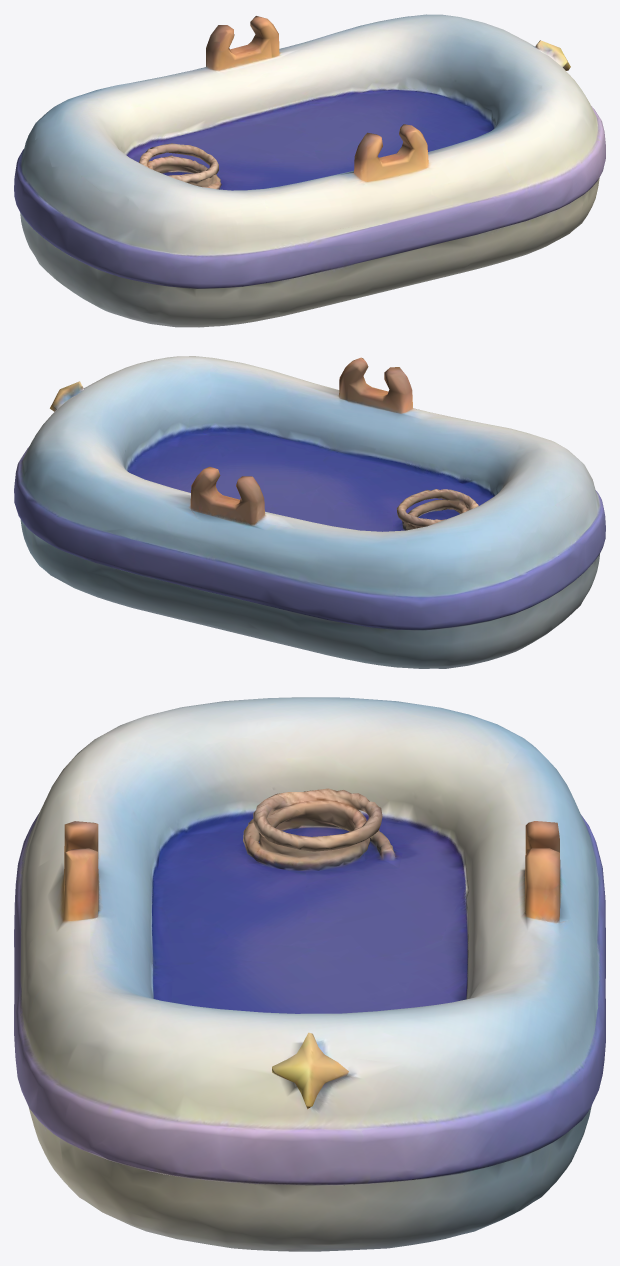
The model's file is raft.glb.
3 renders of one model, top to bottom at view 1: azimuth 30°, elevation 25°; view 2: azimuth 150°, elevation 25°; view 3: azimuth 270°, elevation 25°, orthographic. The views are drawn at different scales.
Visible parts, largest first — view 1: tripo_node_0b523997-4f02-4bc8-a337-ece1bb47556f; view 2: tripo_node_0b523997-4f02-4bc8-a337-ece1bb47556f; view 3: tripo_node_0b523997-4f02-4bc8-a337-ece1bb47556f.
Boxes of the visible parts, x1,y1,x2,y2 form: tripo_node_0b523997-4f02-4bc8-a337-ece1bb47556f: (14, 14, 605, 327); tripo_node_0b523997-4f02-4bc8-a337-ece1bb47556f: (14, 356, 605, 668); tripo_node_0b523997-4f02-4bc8-a337-ece1bb47556f: (14, 697, 605, 1251).
Bounding box in the file's own units: 0.9873 × 0.289 × 0.6227.
Materials: 1 (1 with a texture image).
